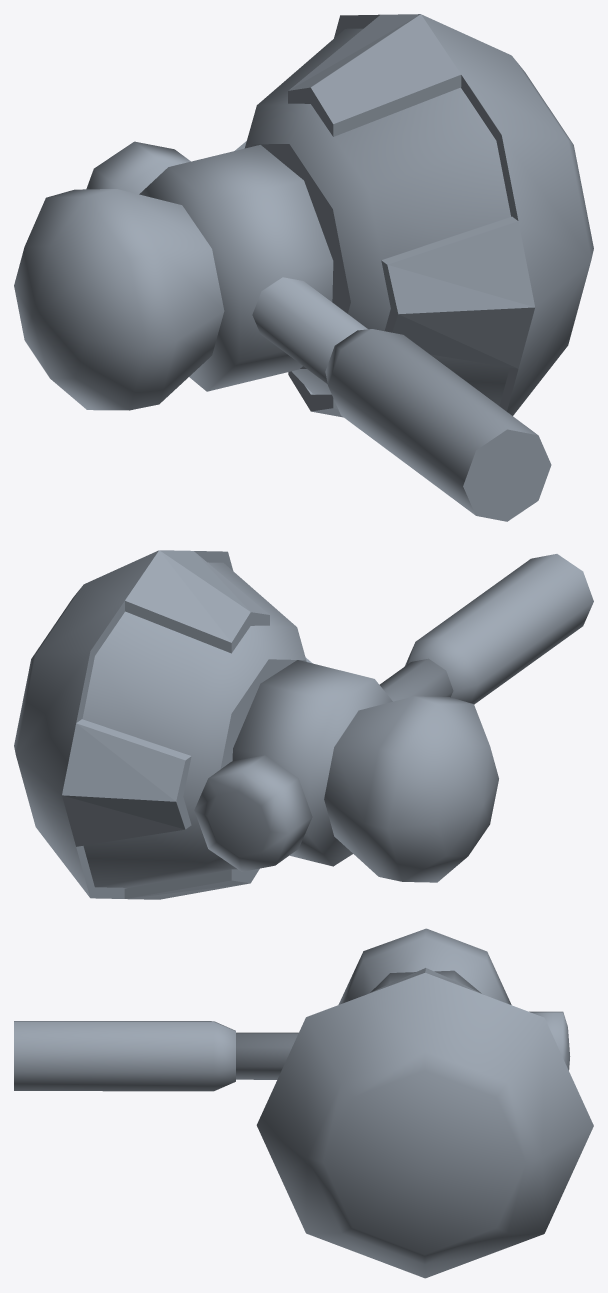
Rendered from gltf__Models__Weapon__w_hammer_01.glb.
3 views of the same model, one above another, from view 1: azimuth 30°, elevation 25°; view 2: azimuth 150°, elevation 25°; view 3: azimuth 270°, elevation 25° (orthographic). The views are drawn at different scales.
Visible parts, largest first — view 1: w_hammer_01; view 2: w_hammer_01; view 3: w_hammer_01.
Part boxes in pixels (x1,y1,x2,y2): w_hammer_01: (14,14,593,521); w_hammer_01: (14,550,593,899); w_hammer_01: (14,928,593,1278).
Bounding box in the file's own units: 0.1457 × 0.1139 × 0.1958.
Materials: 1 (1 with a texture image).
